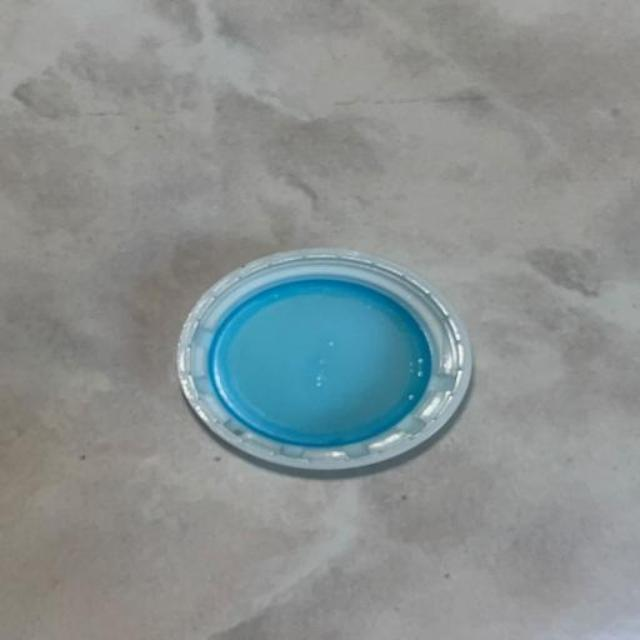HDPE: (139, 155, 491, 529)
